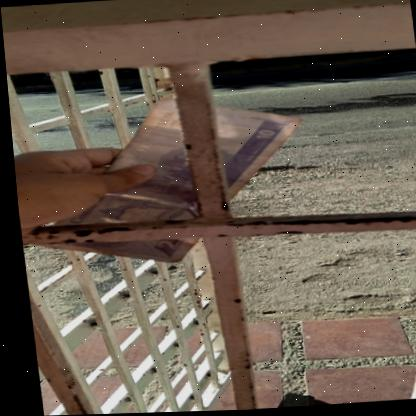ten-back-vef: (22, 92, 316, 271)
